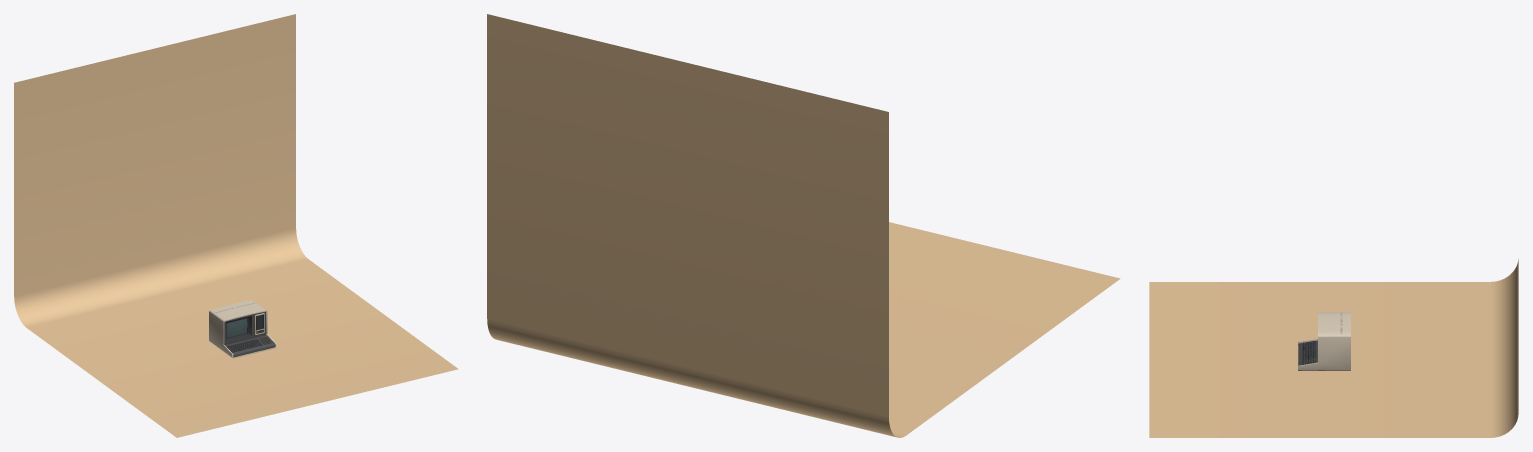
Rendered from computer.glb.
3 renders of one model, left to right at view 1: azimuth 30°, elevation 25°; view 2: azimuth 150°, elevation 25°; view 3: azimuth 270°, elevation 25°, orthographic. The views are drawn at different scales.
Parts seen in each view (by area): view 1: Plane.001, Comp_Screen.002_TerminalMaterial_0.001; view 2: Plane.001; view 3: Plane.001, Comp_Screen.002_TerminalMaterial_0.001.
Boxes of the visible parts, box(x1,y1,x2,y2) form: Plane.001: box(14, 14, 458, 437); Comp_Screen.002_TerminalMaterial_0.001: box(209, 300, 276, 358); Plane.001: box(487, 14, 1120, 437); Plane.001: box(1149, 259, 1518, 437); Comp_Screen.002_TerminalMaterial_0.001: box(1298, 312, 1350, 370).
Size of the model in its own units: 10 by 8 by 10.
Materials: 2 (1 with a texture image).
